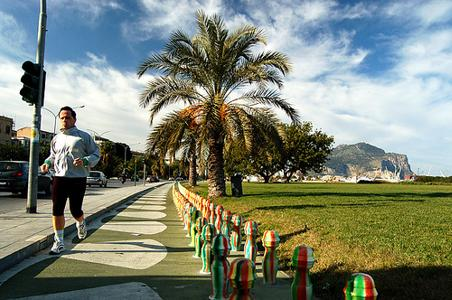person: (41, 107, 102, 255)
